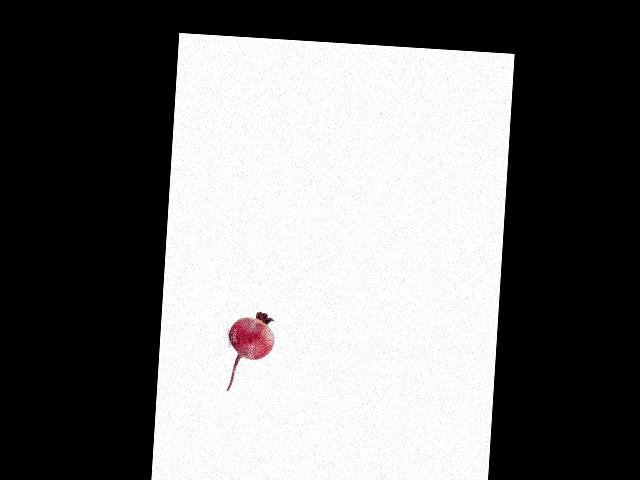beet: (225, 310, 275, 392)
